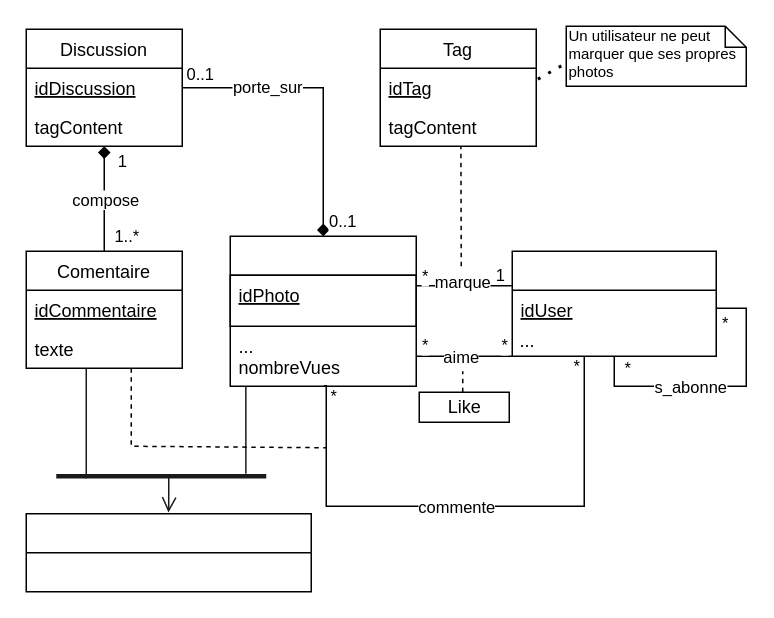
The diagram is 774 pixels wide and 618 high, and some of its shapes have lost their labels. Each missing label, with the box of its shape:
ContenuNumerique: (25, 512, 311, 592)
Photographie: (229, 235, 416, 386)
Utilisateur: (511, 250, 716, 356)
